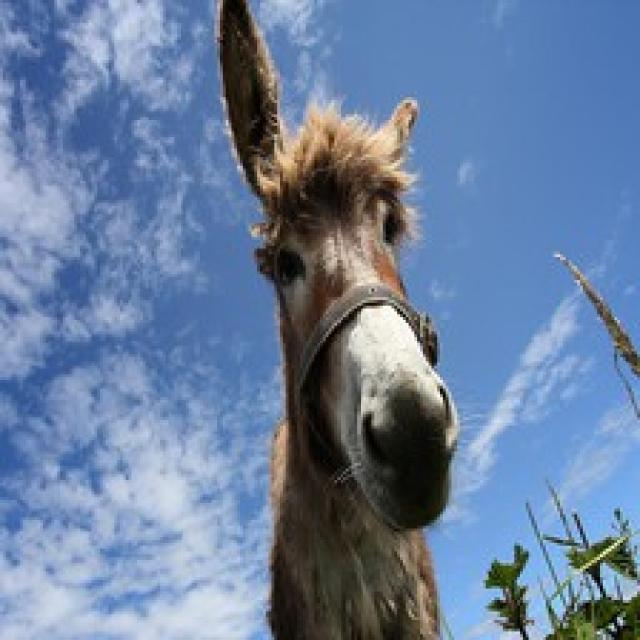Donkey: (211, 0, 463, 637)
